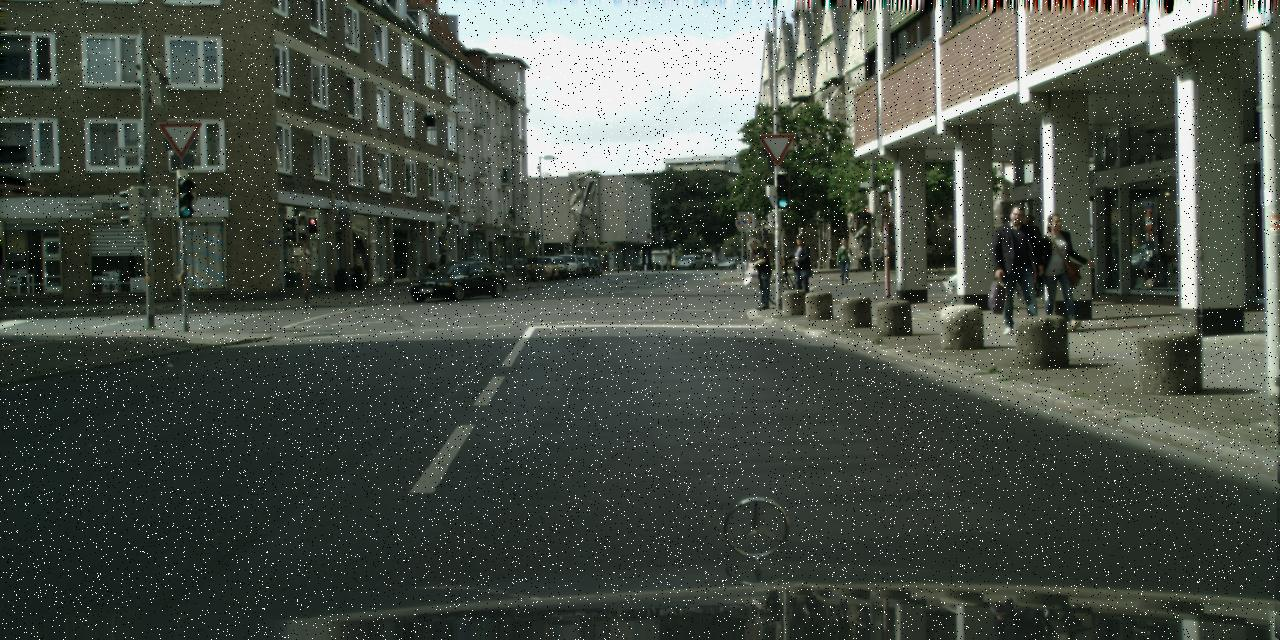ped: (994, 204, 1046, 330), (1034, 212, 1081, 329), (1014, 214, 1044, 288), (742, 237, 772, 309), (788, 234, 815, 301), (834, 238, 854, 285), (438, 248, 450, 278), (666, 252, 670, 266)
